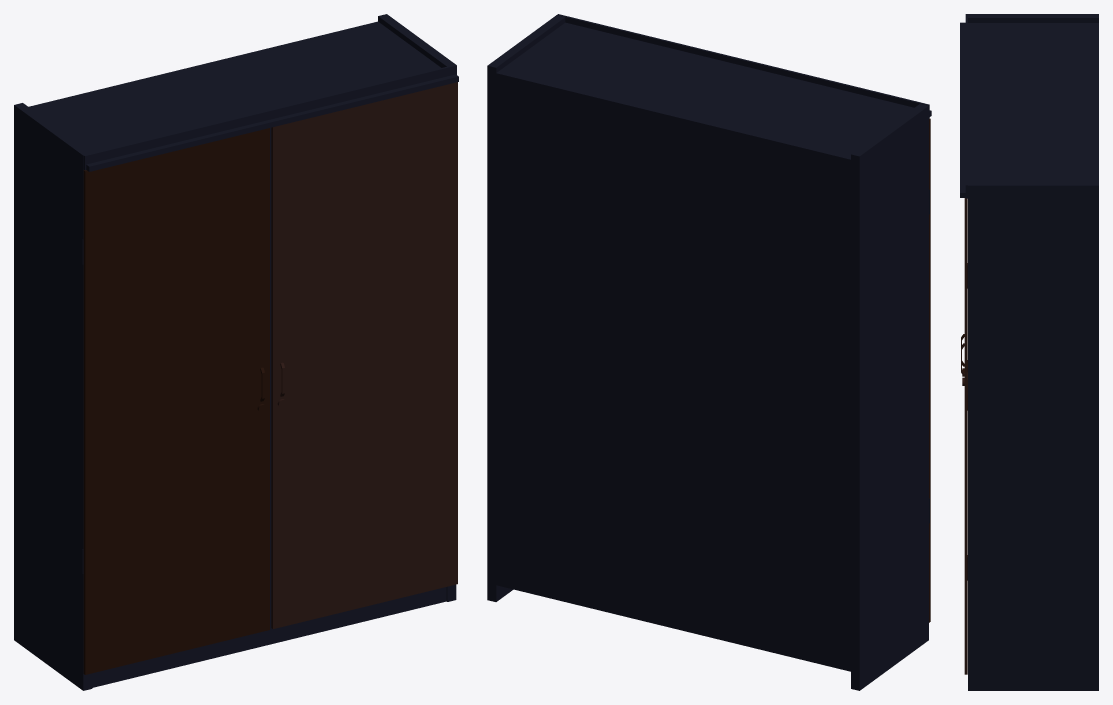
Rendered from gardrop.fbx.
The picture shows the model from 3 angles, left to right: view 1: azimuth 30°, elevation 25°; view 2: azimuth 150°, elevation 25°; view 3: azimuth 270°, elevation 25°; orthographic projection. The views are drawn at different scales.
Parts seen in each view (by area): view 1: door_L, door_R, wardrobe; view 2: wardrobe, door_L; view 3: wardrobe, door_R.
Boxes of the visible parts, x1,y1,x2,y2 form: door_L: (83, 128, 269, 674); door_R: (271, 82, 457, 628); wardrobe: (14, 14, 458, 690); wardrobe: (487, 14, 931, 690); door_L: (929, 118, 930, 622); wardrobe: (960, 14, 1098, 690); door_R: (961, 198, 967, 674).
Size of the model in its own units: 193 by 263 by 65.56.
